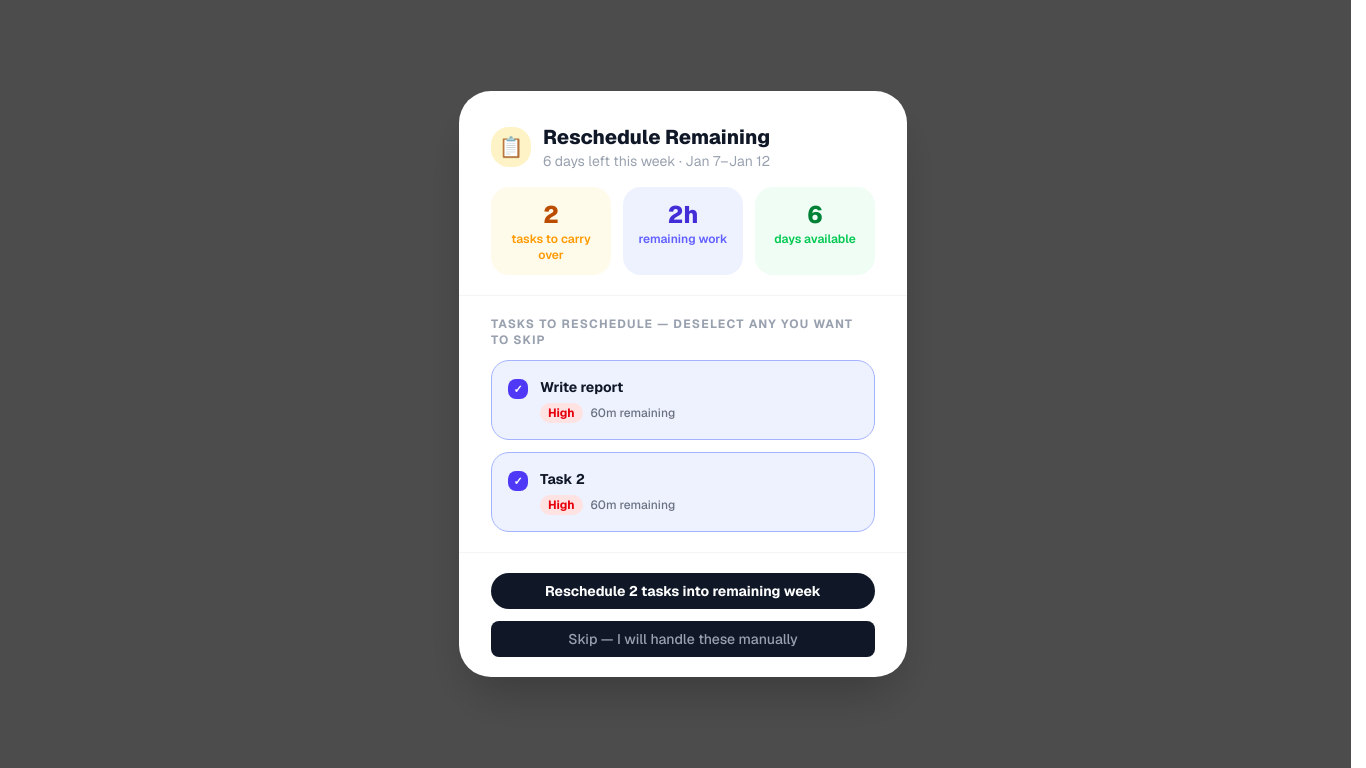
Test: RescheduleModal — selection › updates remaining work total when task is deselected
This screenshot has width=1366, height=768.
Click the text "Write report": (683, 400) x1=491 y1=360 x2=875 y2=440
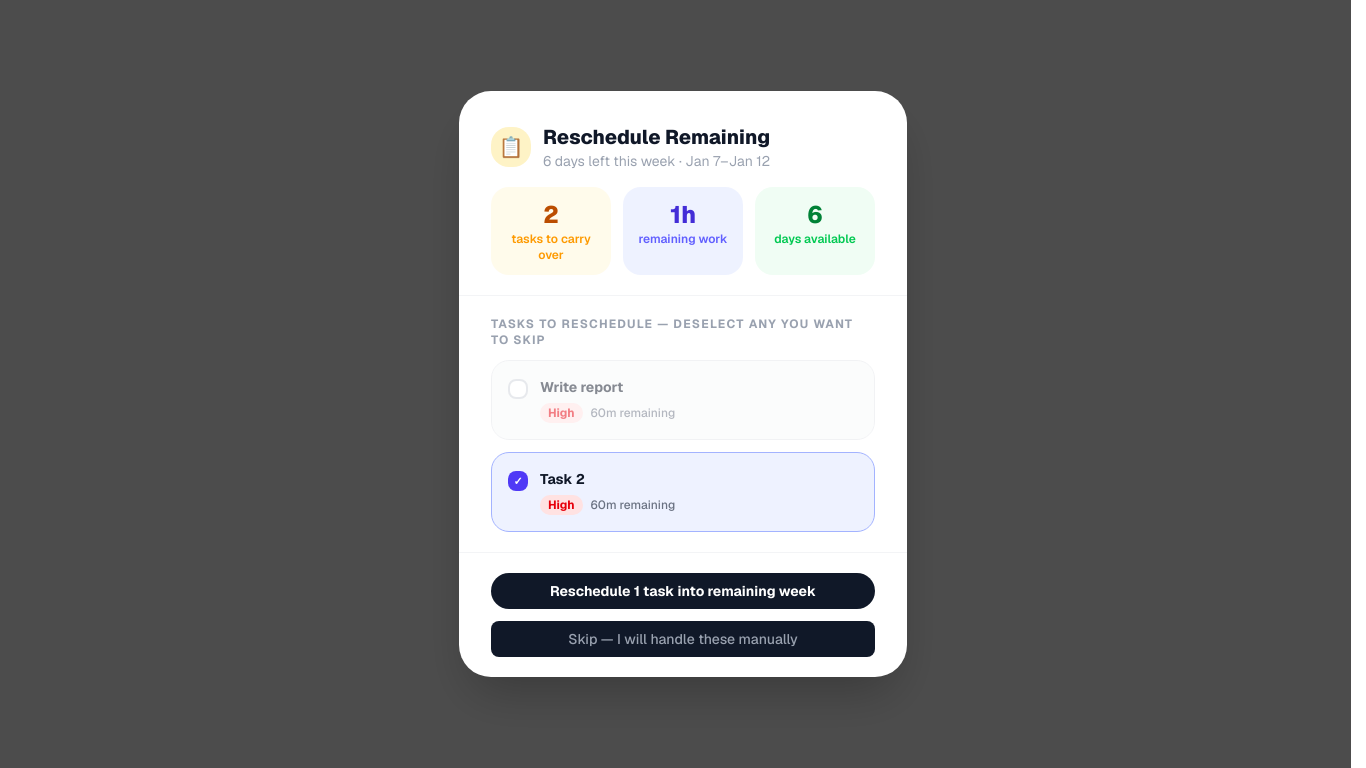
Check: the text "1h" is shown, box x1=670 y1=199 x2=696 y2=230
